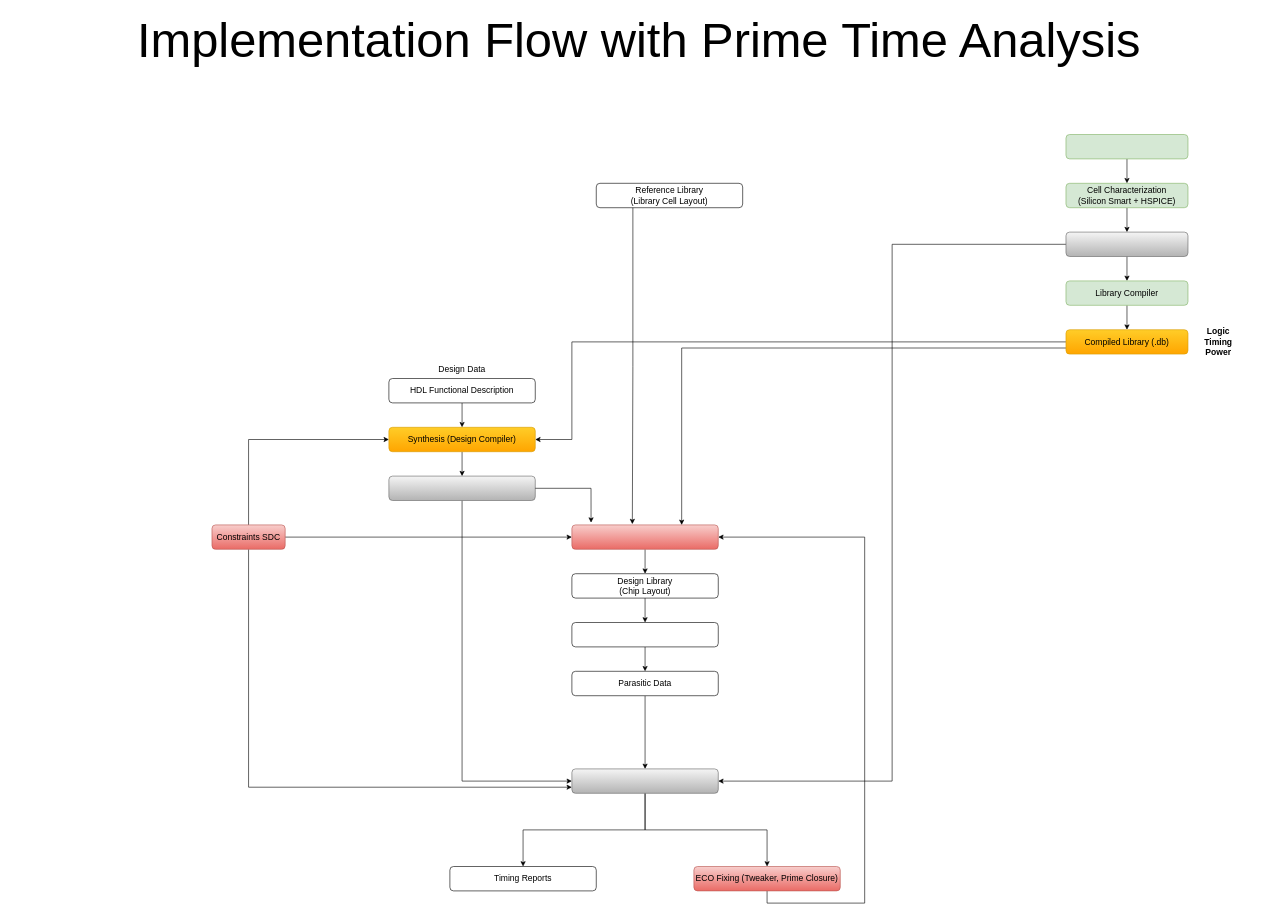
The diagram is 1277 pixels wide and 919 high, and some of its shapes have lost their labels. Here are the shapes that lost their labels. From the top down, the box of each, then its label:
(1065, 134, 1188, 159): Cell Spice Models
(1065, 231, 1188, 257): Cell Library ( .lib)
(388, 475, 535, 501): Gate Level Netlist Verilog
(571, 524, 718, 549): Physical Implementation (ICCII)
(571, 622, 718, 647): Parasitic Extraction (Star RC)
(571, 768, 718, 793): STA (Prime Time)
